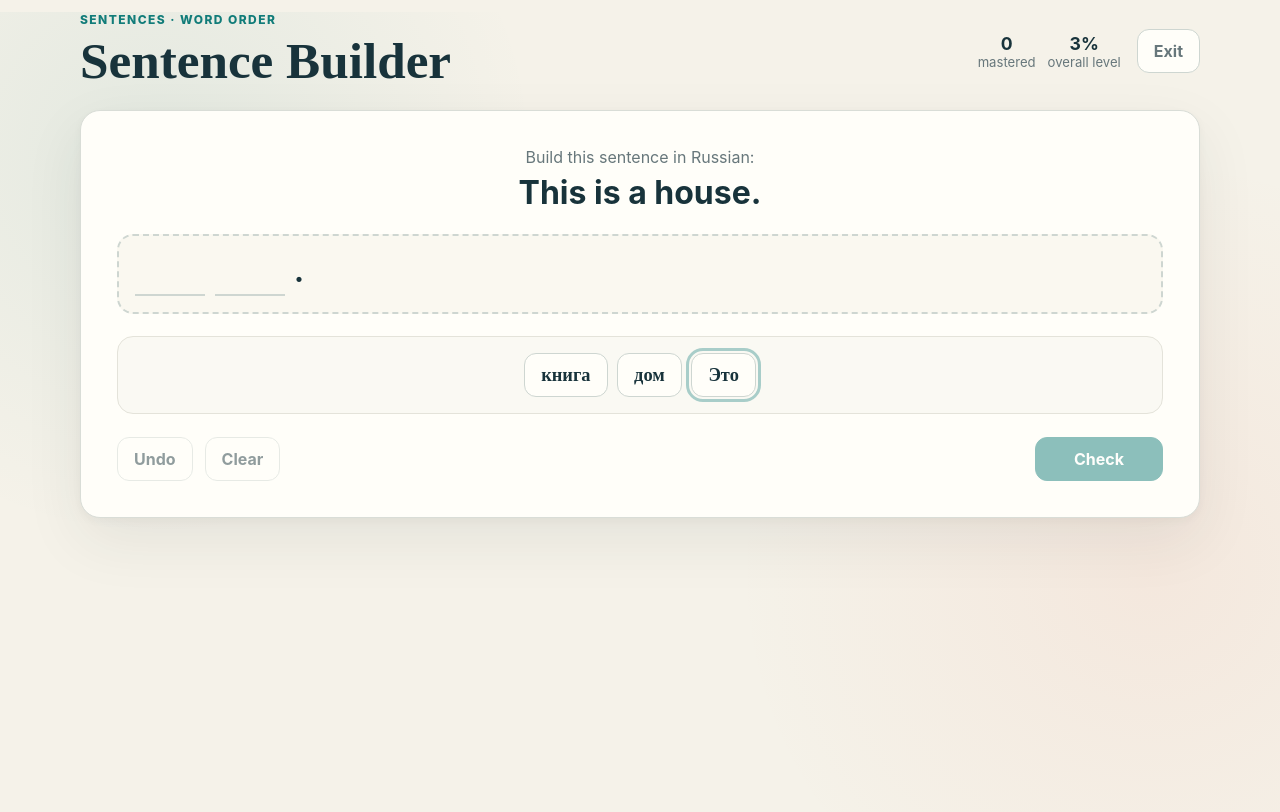
it: SentenceBuilderGame › fades scaffolds, allows a high-level distractor to remain unused, and supports keyboard Undo
Expected: the button named "Add книга to answer" is shown, [524,353,608,397]
Press Enter
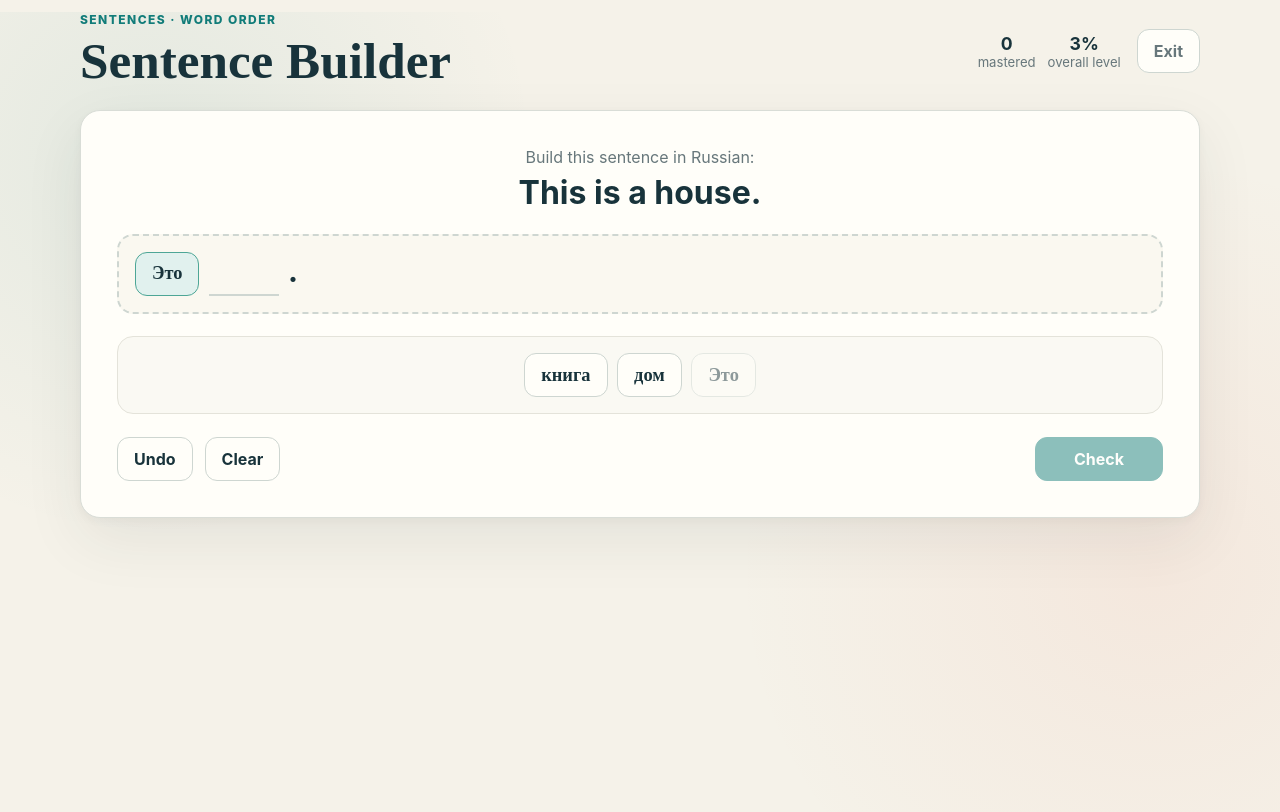
Result: the button named "Remove Это from answer" is shown at [135,252,200,296]
Press Backspace
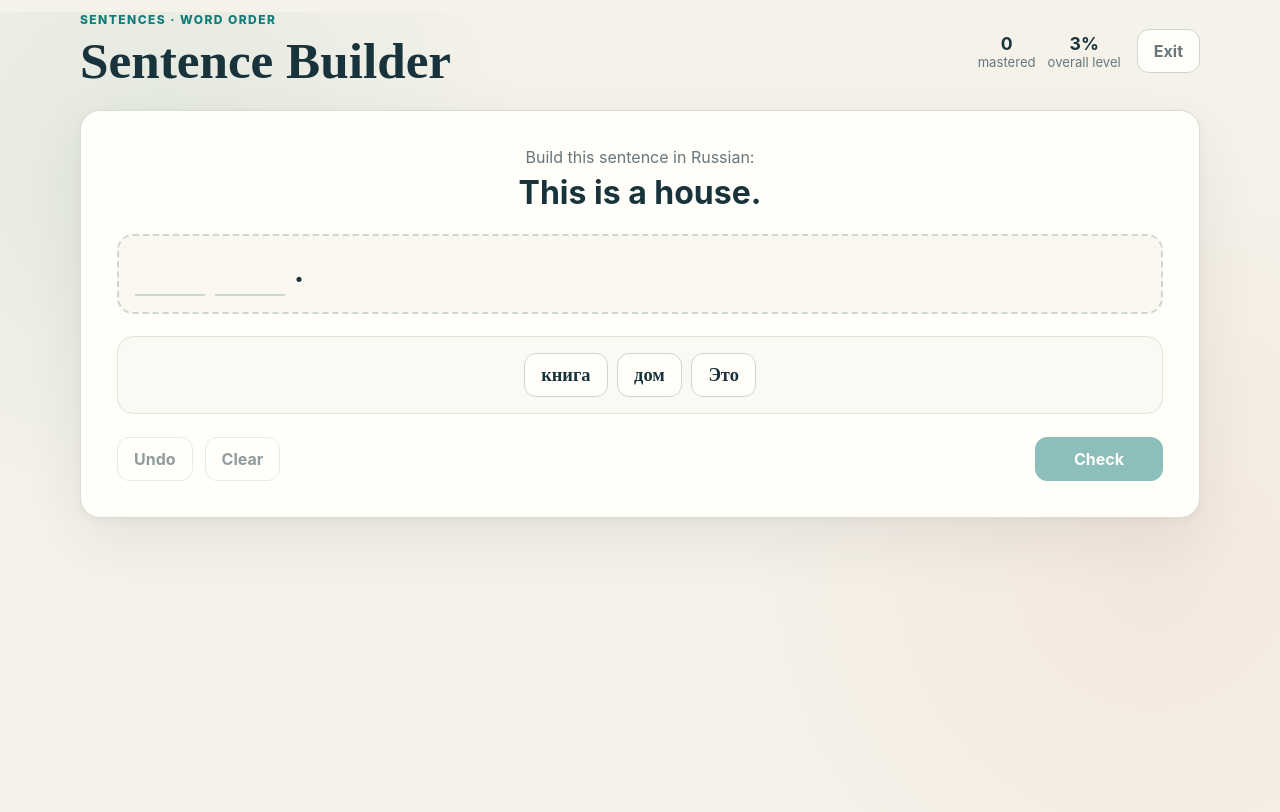
Click the button named "Add Это to answer" at (724, 375), box [691,353,756,397]
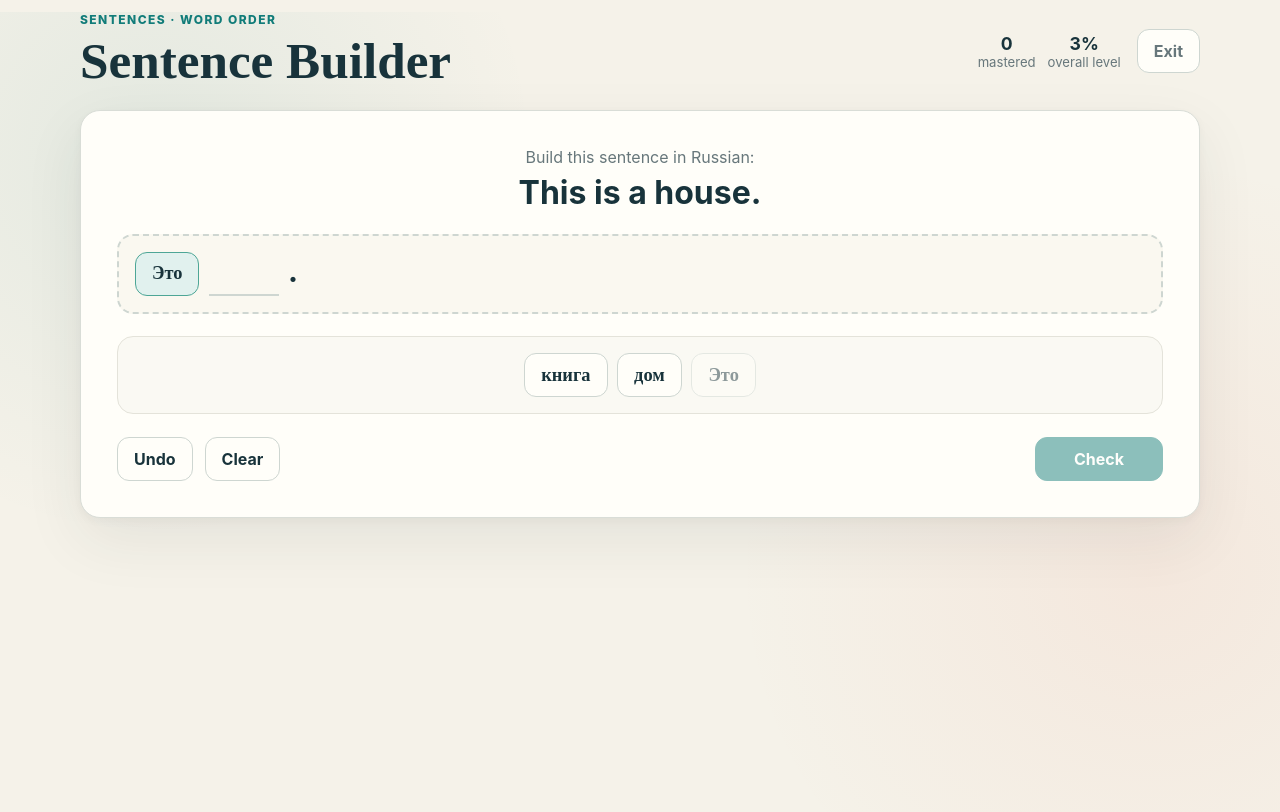
Click the button named "Add дом to answer" at (649, 375), box [617,353,682,397]
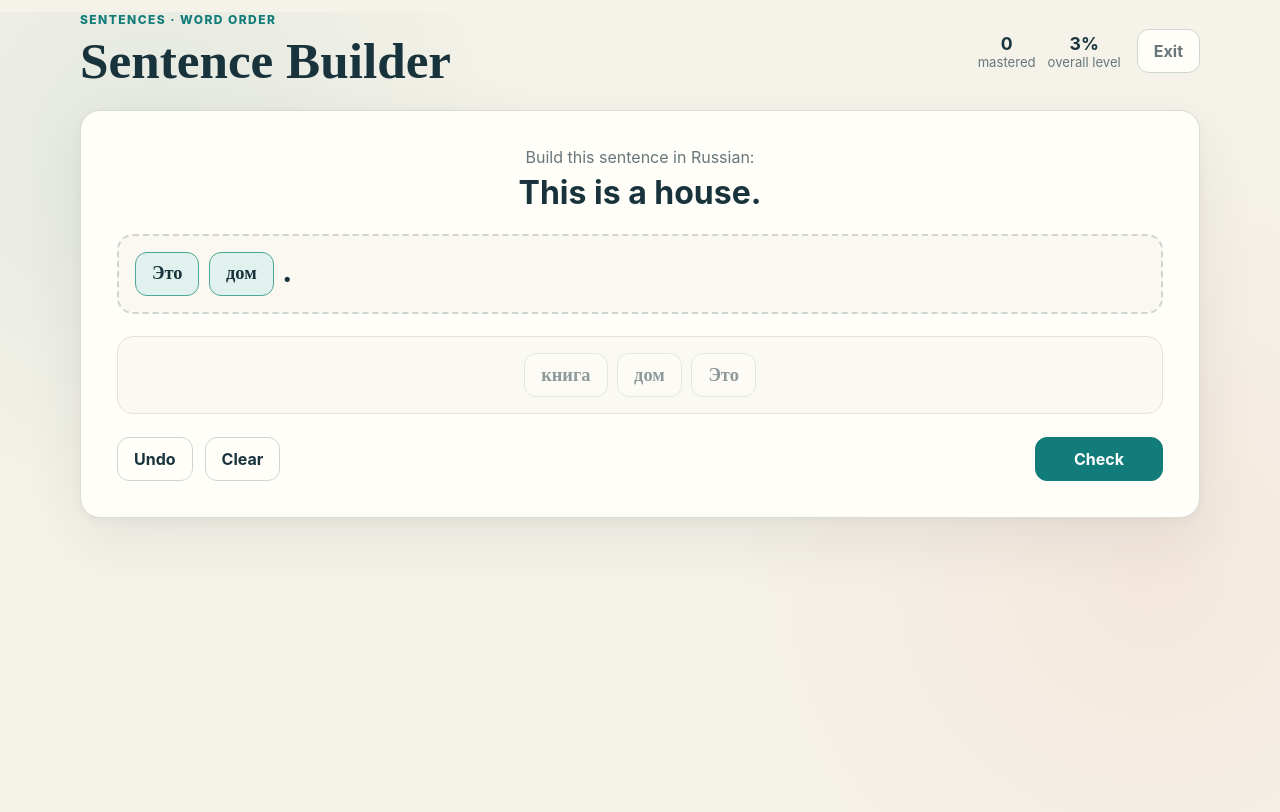
Result: the button "Check" is enabled
Result: the button named "Add книга to answer" is disabled at [524,353,608,397]
Click the button "Check" at (1099, 459), box [1035,437,1163,481]
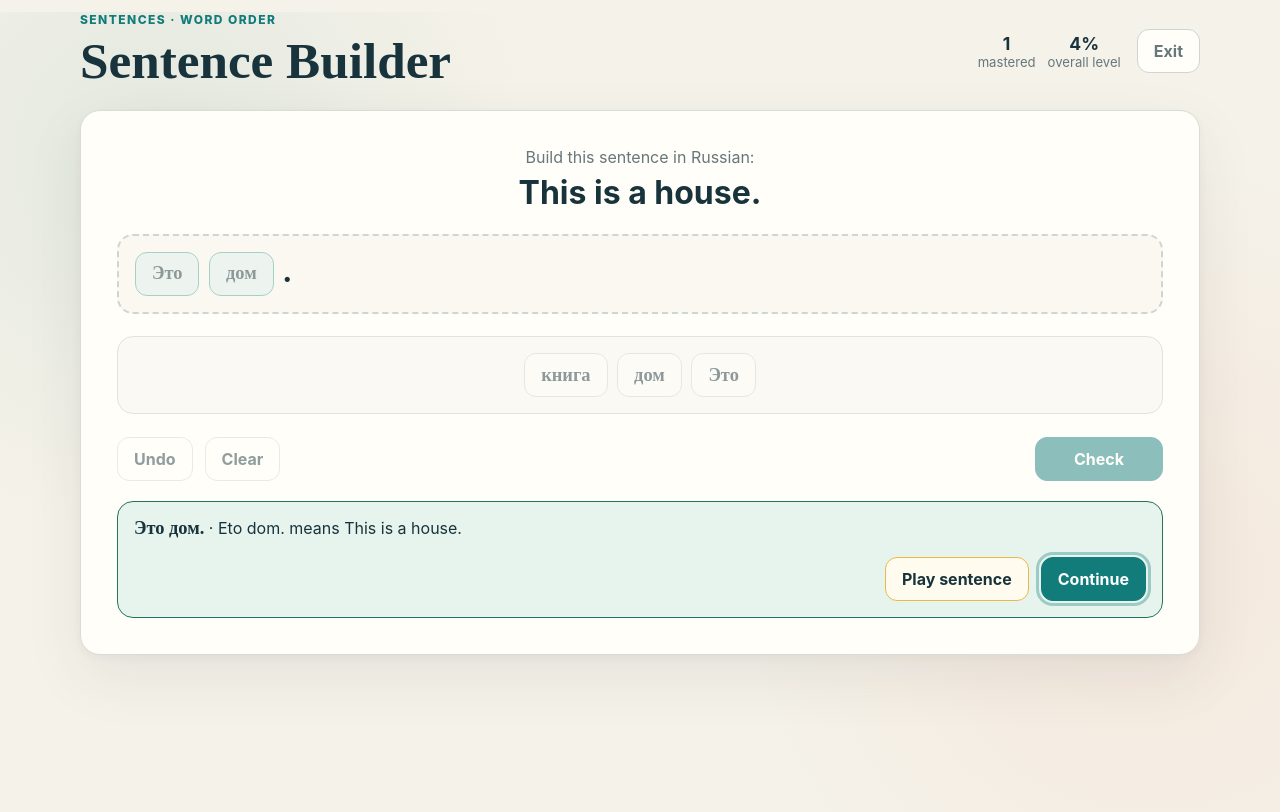
Result: the message shows "Это дом." at [134,518,204,538]
